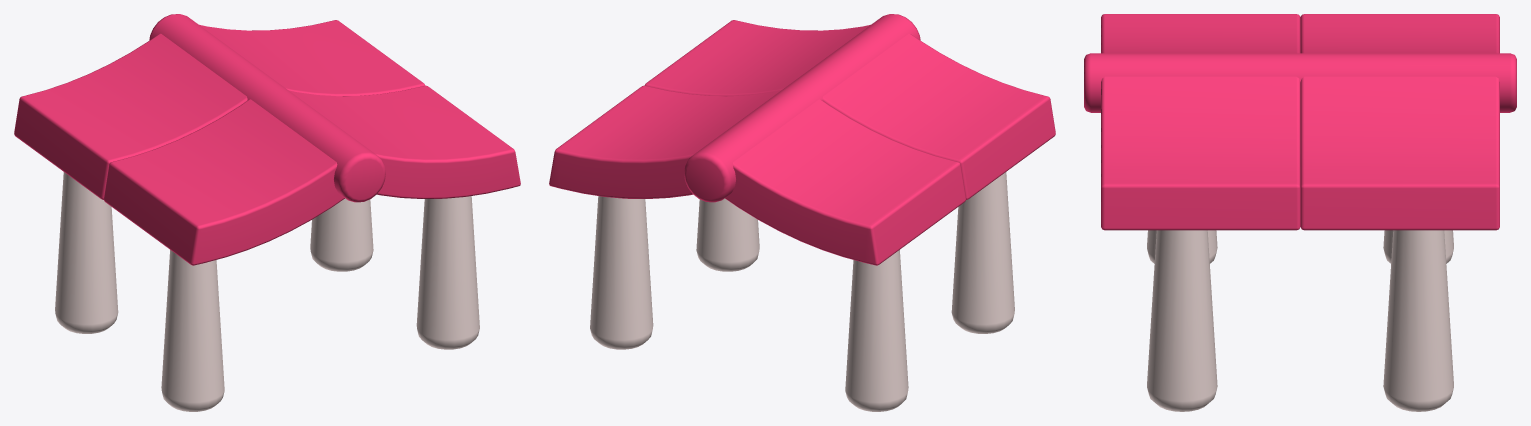
Rendered from Farm_2_Warehouse_1.glb.
3 renders of one model, left to right at view 1: azimuth 30°, elevation 25°; view 2: azimuth 150°, elevation 25°; view 3: azimuth 270°, elevation 25°, orthographic. The views are drawn at different scales.
Parts seen in each view (by area): view 1: Farm_2_Warehouse_1; view 2: Farm_2_Warehouse_1; view 3: Farm_2_Warehouse_1.
Boxes of the visible parts, x1=… form: Farm_2_Warehouse_1: x1=14, y1=14, x2=520, y2=411; Farm_2_Warehouse_1: x1=549, y1=14, x2=1055, y2=411; Farm_2_Warehouse_1: x1=1084, y1=14, x2=1516, y2=411.
Bounding box in the file's own units: 4.05 × 2.94 × 4.15.
Materials: 1 (1 with a texture image).
